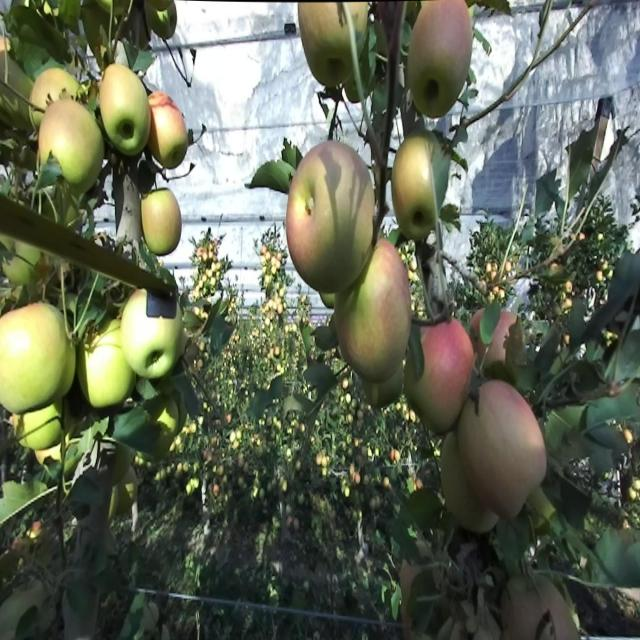apple: (286, 140, 374, 293), (458, 380, 546, 518), (332, 241, 413, 389), (0, 298, 84, 412), (404, 0, 473, 121), (409, 316, 473, 438), (40, 93, 108, 199), (441, 432, 499, 533), (80, 312, 136, 412), (120, 291, 180, 379), (501, 576, 579, 640), (392, 141, 439, 242), (100, 63, 147, 160), (76, 333, 132, 412), (120, 291, 168, 377), (400, 560, 446, 637), (148, 92, 190, 172), (438, 589, 501, 640), (144, 191, 184, 260), (300, 6, 344, 62), (16, 404, 64, 455), (488, 312, 523, 375), (32, 70, 72, 121), (156, 397, 181, 439), (344, 6, 368, 36), (4, 36, 10, 57)
